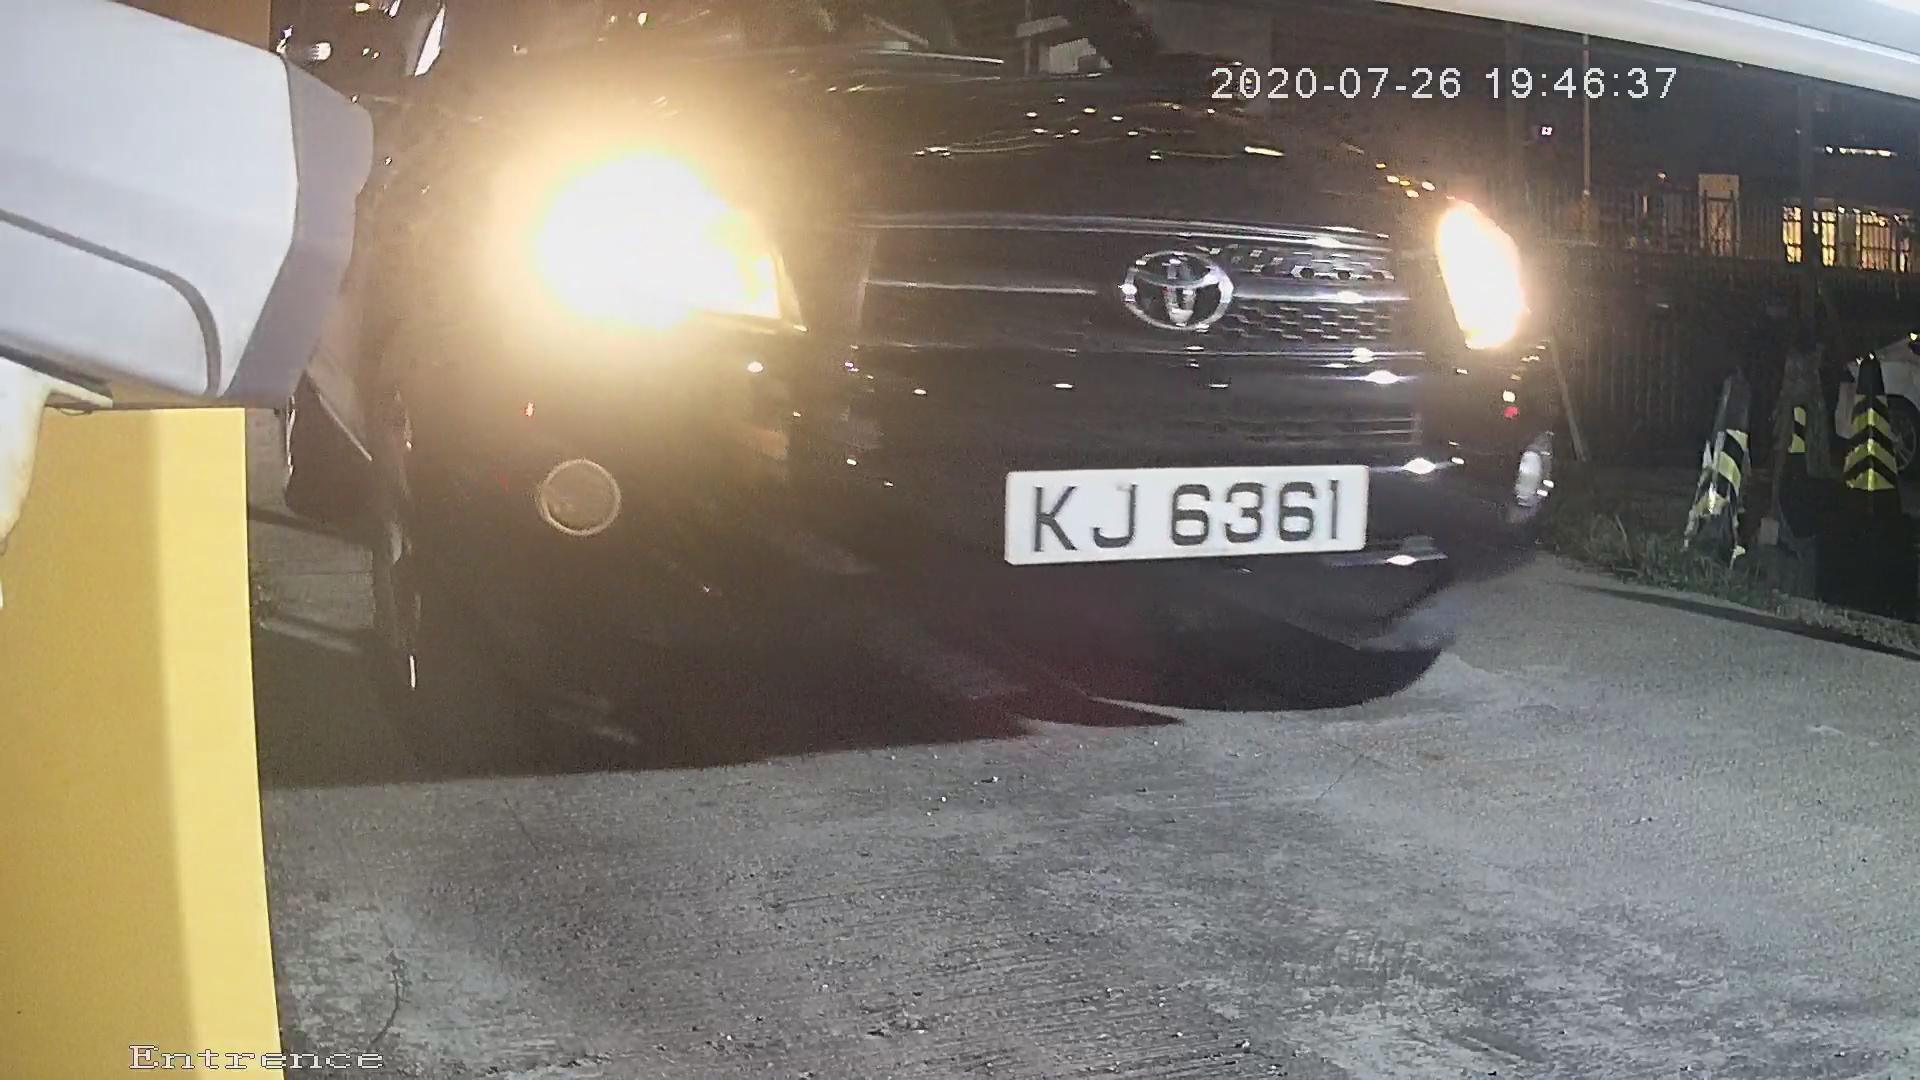Car: (129, 49, 1621, 738)
License Plate: (979, 449, 1389, 600)
